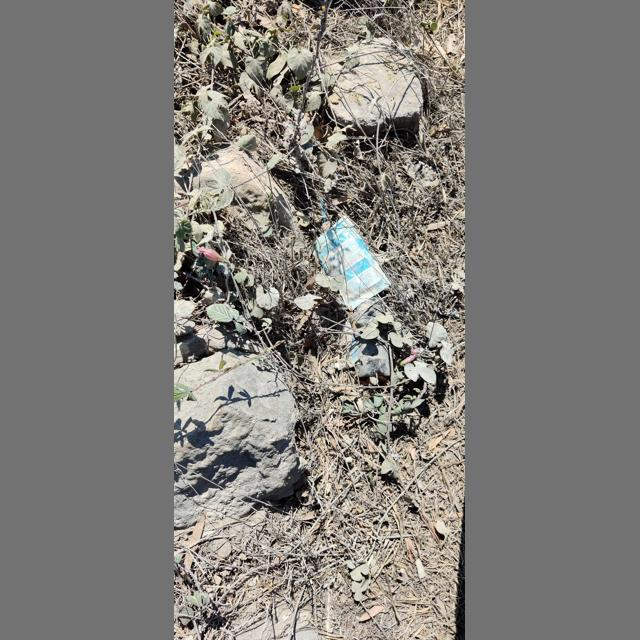litter: (312, 213, 393, 311), (354, 297, 391, 379), (329, 319, 362, 373)
